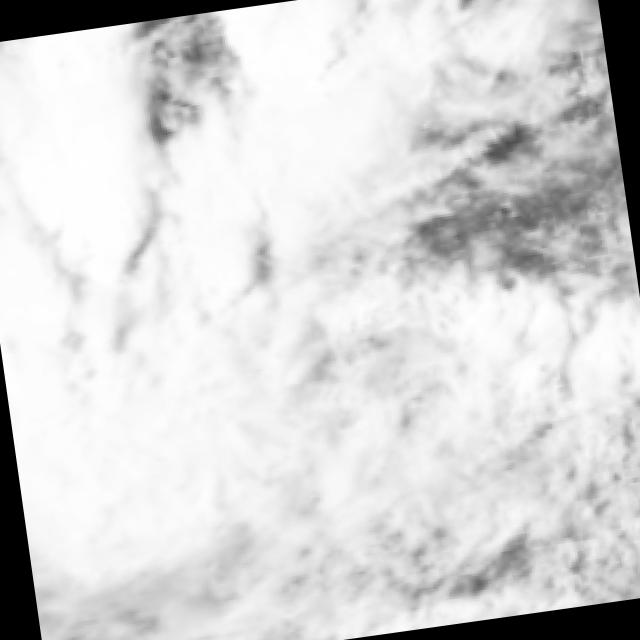CB: (5, 352, 205, 561), (30, 44, 140, 250), (260, 69, 384, 178)
